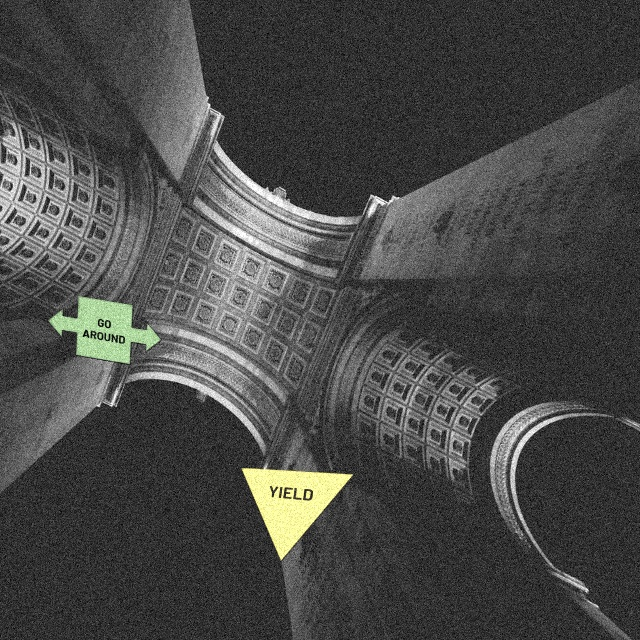GO_AROUND: (47, 295, 162, 365)
YIELD: (240, 467, 355, 562)
